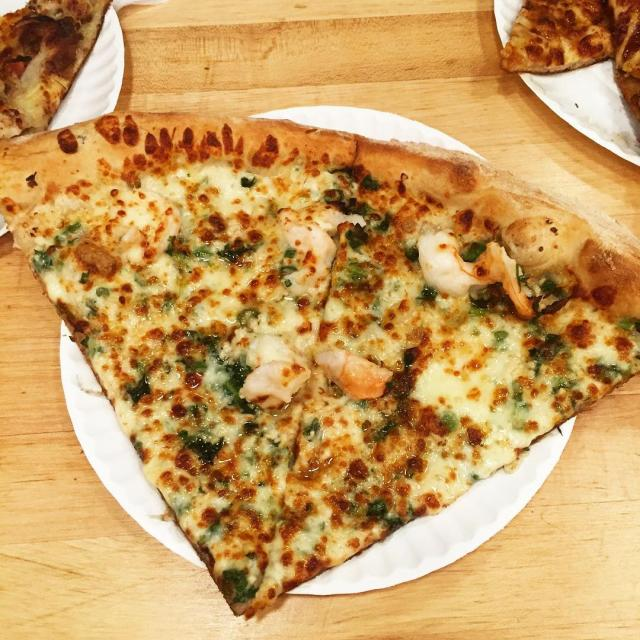basil: (26, 216, 91, 277), (173, 417, 229, 471), (217, 359, 259, 421), (177, 322, 224, 375), (215, 560, 261, 610), (157, 231, 215, 267), (118, 356, 158, 405), (362, 497, 415, 531), (524, 324, 563, 366), (527, 272, 567, 300), (215, 242, 258, 267), (461, 231, 485, 267), (410, 281, 440, 305), (342, 222, 368, 249), (352, 174, 384, 193), (396, 239, 421, 263)
pizza: (0, 109, 640, 621), (496, 0, 640, 141), (0, 0, 112, 142)
